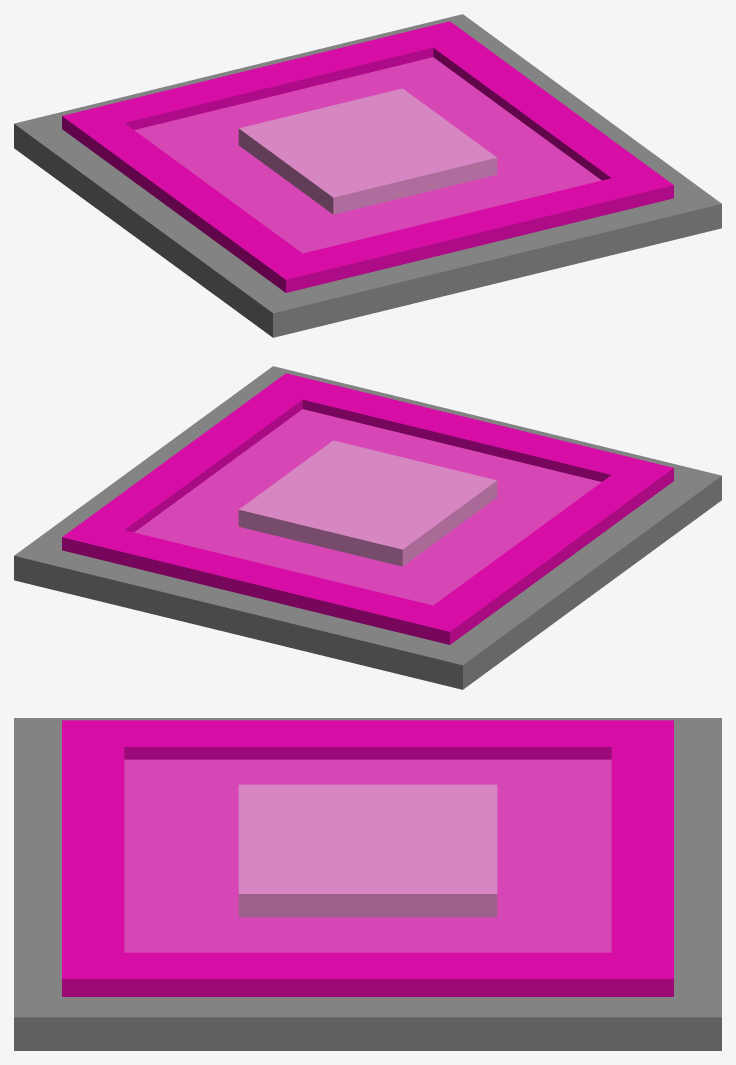
File: Nightclub_DanceFloor_Pink.fbx
3 views of the same model, one above another, from view 1: azimuth 30°, elevation 25°; view 2: azimuth 150°, elevation 25°; view 3: azimuth 270°, elevation 25° (orthographic). The views are drawn at different scales.
Parts seen in each view (by area): view 1: Plane.1431; view 2: Plane.1431; view 3: Plane.1431.
Part boxes in pixels (left/top/right/bottom): Plane.1431: left=14, top=14, right=721, bottom=337; Plane.1431: left=14, top=366, right=721, bottom=689; Plane.1431: left=14, top=718, right=721, bottom=1050.
Bounding box in the file's own units: 91.17 × 8.78 × 91.17.
